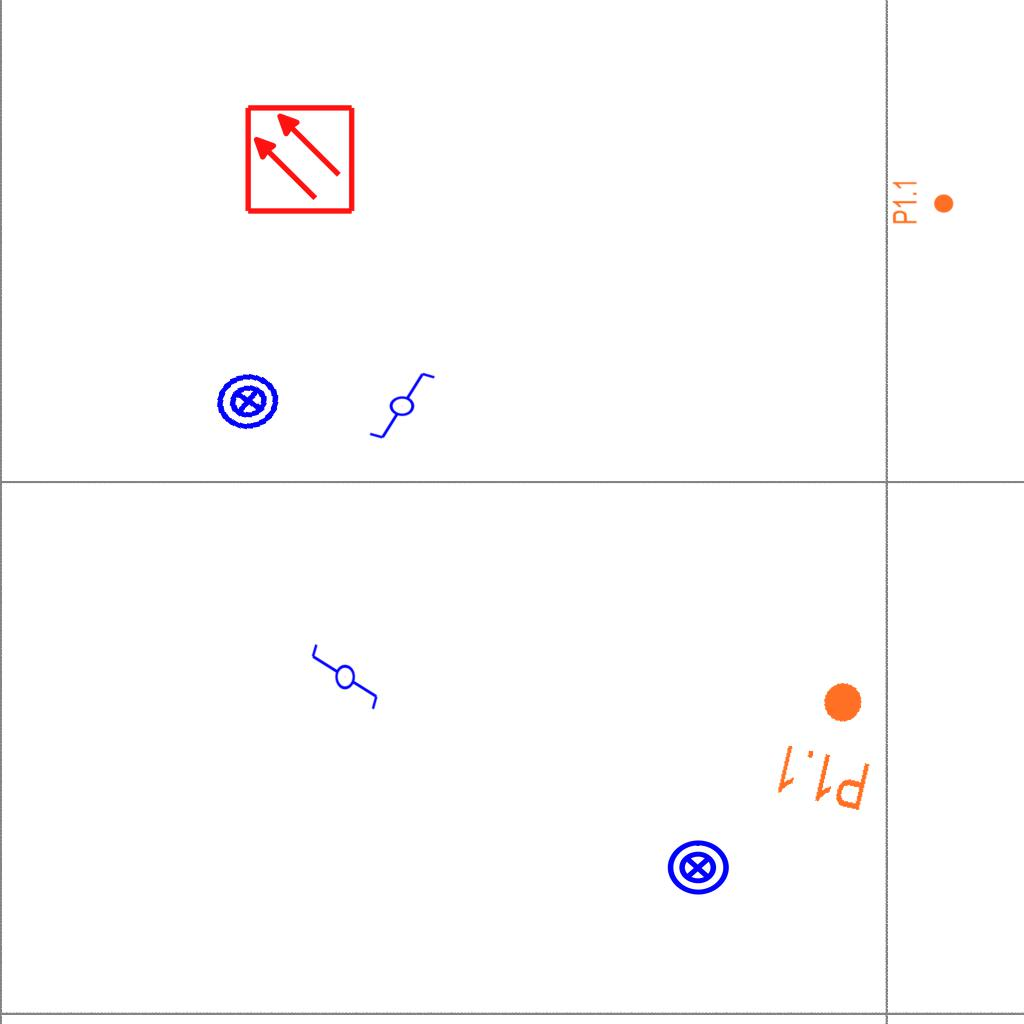Downlight_LED_Einbauleuchten_Flur_2: (770, 669, 891, 815), (891, 179, 955, 225)
RMO_Rauchmelder_optischer: (243, 103, 356, 216)
Taster_beleuchtet: (210, 363, 286, 439), (665, 835, 731, 901)
Wechselschalter: (308, 642, 380, 720), (359, 369, 437, 441)
